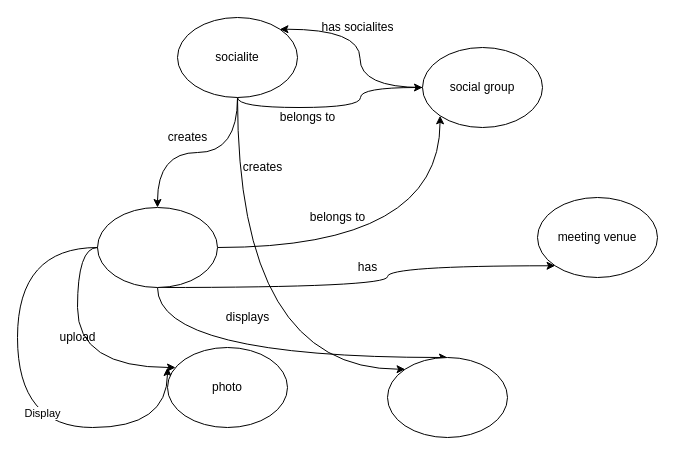
Some shapes in this 675 by 455 pixel diagram are drawn without their labels. The centre of each missing label's shape, as x and y in pixels:
message: (x=447, y=397)
social event: (x=157, y=247)
